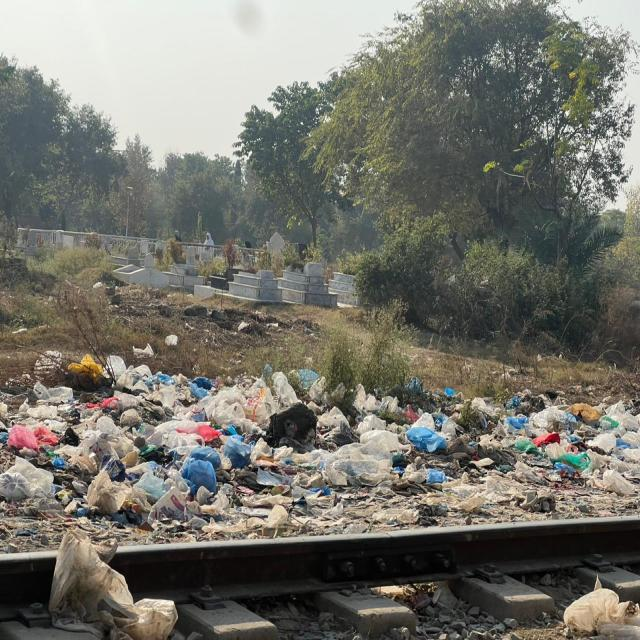garbage: (11, 370, 640, 510)
